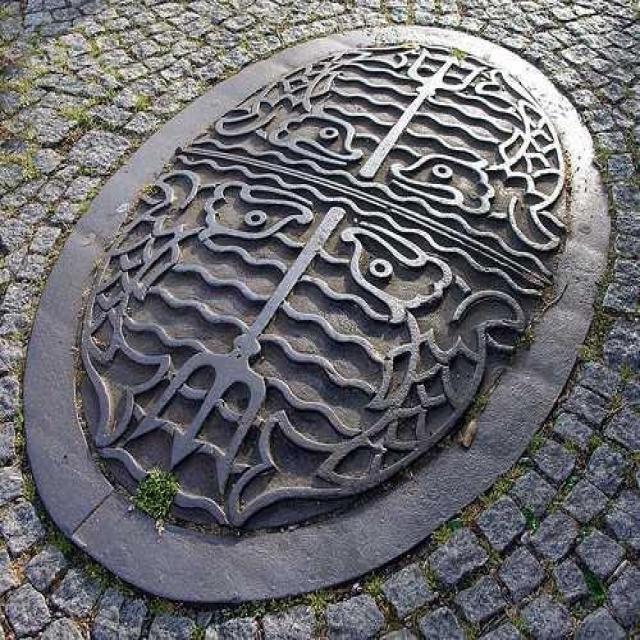manhole: (25, 27, 609, 602)
